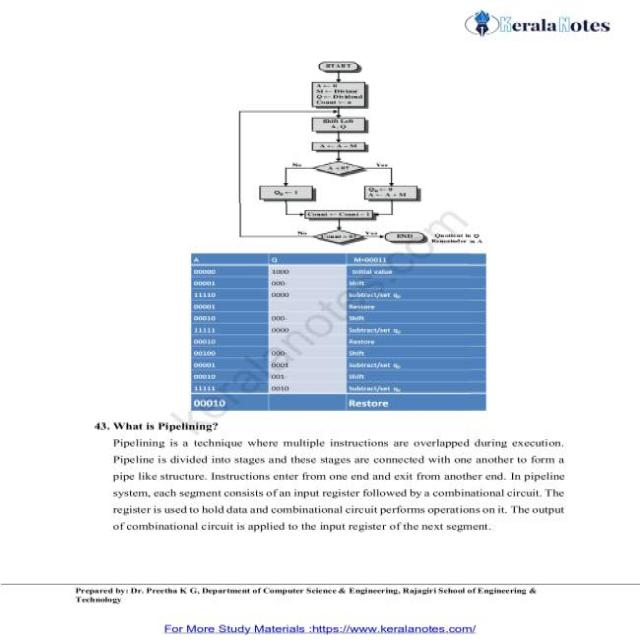Figure Detection - v3 Dataset Version2: (220, 54, 495, 248)
